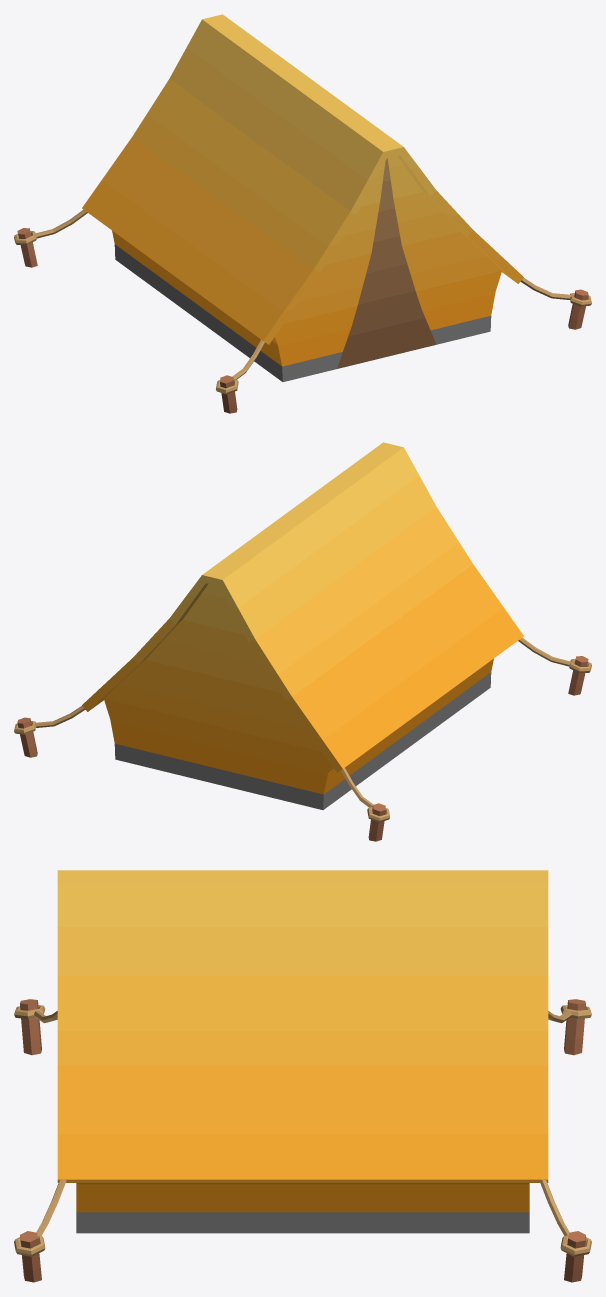
The model's file is camp_tent_yellow.glb.
3 renders of one model, top to bottom at view 1: azimuth 30°, elevation 25°; view 2: azimuth 150°, elevation 25°; view 3: azimuth 270°, elevation 25°, orthographic. The views are drawn at different scales.
Parts seen in each view (by area): view 1: camp_tent_yellow; view 2: camp_tent_yellow; view 3: camp_tent_yellow.
Part boxes in pixels (x1=…): camp_tent_yellow: x1=14, y1=14, x2=591, y2=413; camp_tent_yellow: x1=14, y1=442, x2=591, y2=841; camp_tent_yellow: x1=14, y1=870, x2=591, y2=1282.
Size of the model in its own units: 4.06 by 2.2 by 4.01.
1 material, 1 textured.
